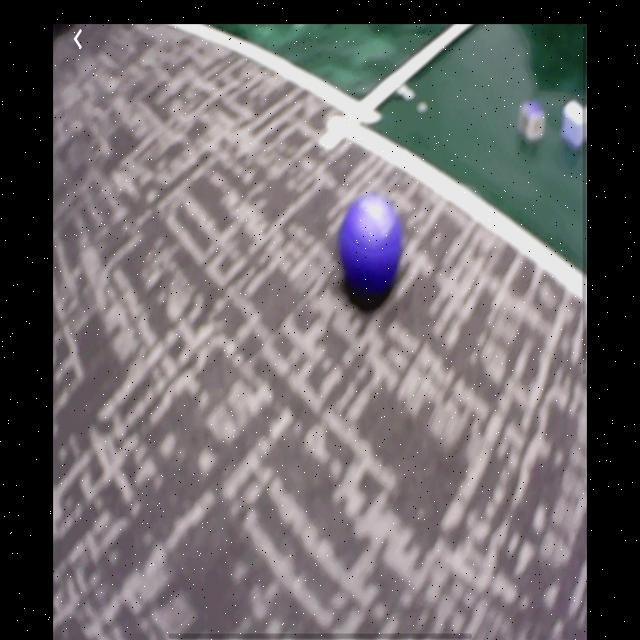ball: (339, 197, 403, 302)
